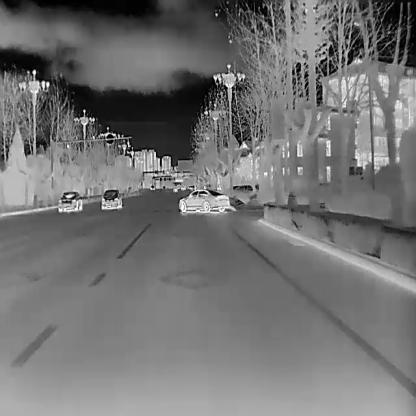car: (178, 188, 229, 211), (228, 182, 260, 202), (57, 188, 83, 212), (99, 187, 123, 208), (150, 184, 154, 190)
